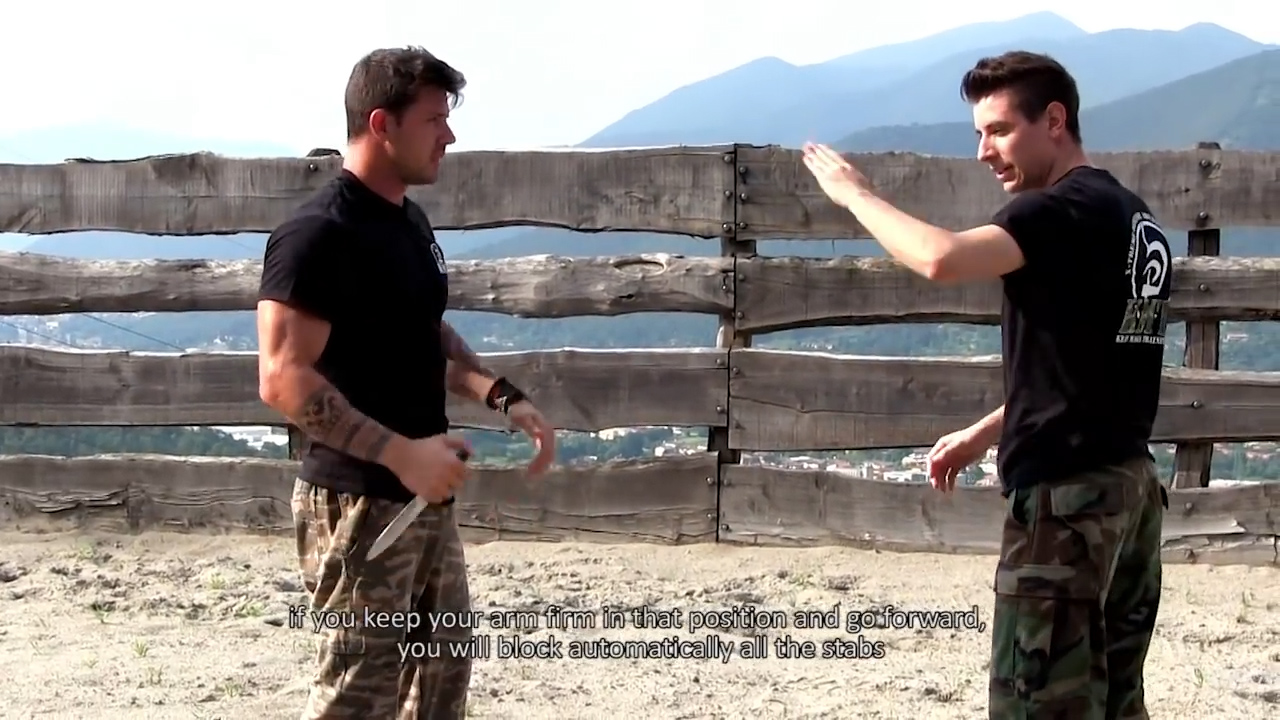knife: (357, 443, 481, 569)
